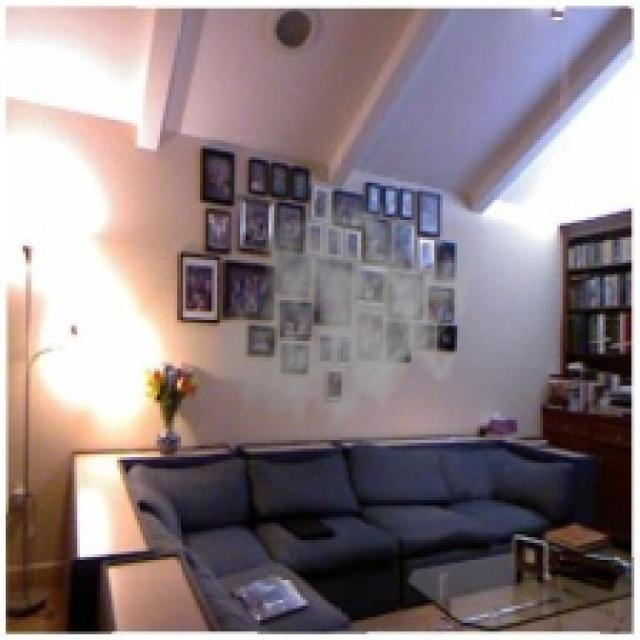Smoke: (215, 192, 474, 452)
